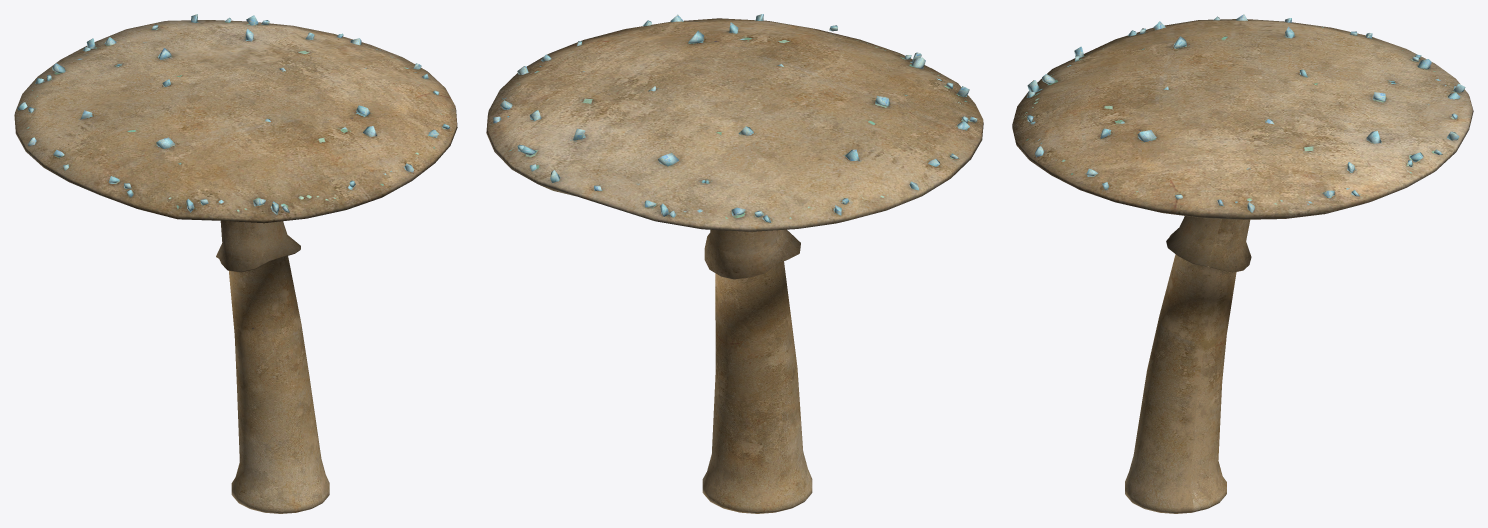
File: nf_mushroom.glb
3 renders of one model, left to right at view 1: azimuth 30°, elevation 25°; view 2: azimuth 150°, elevation 25°; view 3: azimuth 270°, elevation 25°, orthographic. The views are drawn at different scales.
Parts seen in each view (by area): view 1: objCylinder02; view 2: objCylinder02; view 3: objCylinder02.
Part boxes in pixels (x1=…): objCylinder02: x1=14, y1=14, x2=457, y2=513; objCylinder02: x1=486, y1=14, x2=983, y2=513; objCylinder02: x1=1012, y1=14, x2=1473, y2=513.
Bounding box in the file's own units: 46.56 × 44.34 × 46.47.
Materials: 1 (1 with a texture image).
